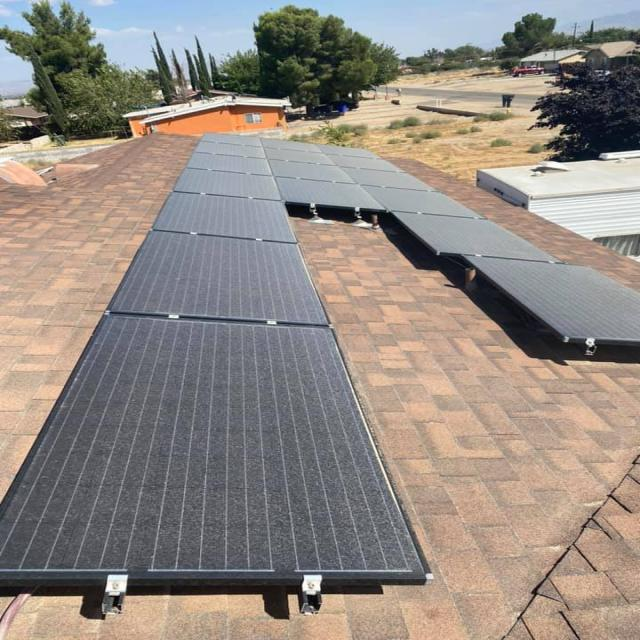dust-solar-panel: (0, 132, 640, 575)
